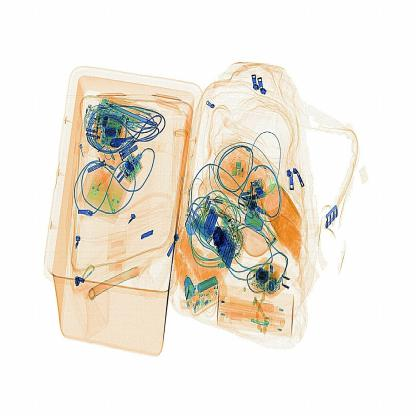scissors: (209, 221, 236, 258)
